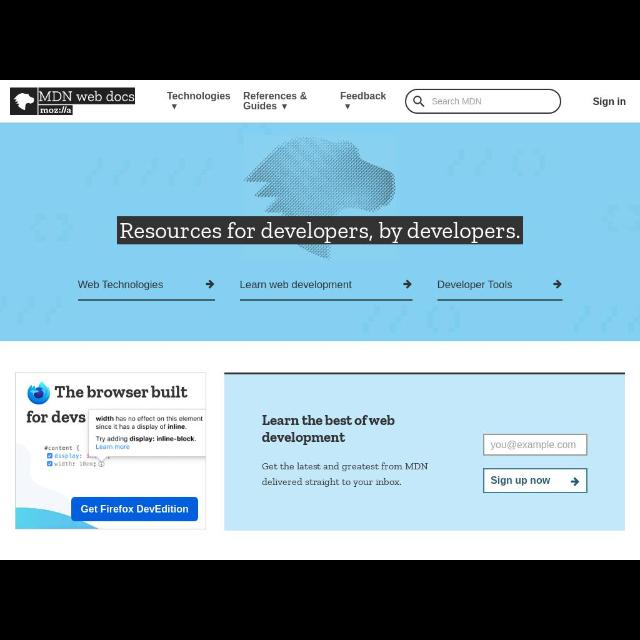icon: (413, 96, 425, 108), (570, 478, 580, 487), (206, 279, 214, 289), (403, 280, 412, 288), (554, 280, 562, 288), (170, 104, 178, 110), (282, 104, 288, 110), (345, 104, 351, 110)
image: (15, 372, 206, 530), (244, 136, 396, 260), (10, 88, 38, 114)
input: (405, 88, 561, 114), (484, 434, 586, 456)
panel: (0, 124, 638, 342), (224, 373, 626, 531)
spinner: (167, 92, 231, 110), (244, 92, 308, 110), (341, 92, 387, 110)
text: (120, 222, 520, 244), (262, 462, 428, 488), (262, 415, 394, 445), (240, 280, 352, 290), (39, 91, 134, 102), (78, 280, 162, 290), (490, 442, 576, 451), (438, 280, 512, 290), (168, 92, 230, 102), (492, 476, 550, 486), (244, 92, 308, 100), (341, 92, 387, 100), (432, 98, 482, 105), (594, 97, 626, 107), (243, 102, 277, 110), (40, 106, 72, 114)
textbutton: (484, 468, 588, 494)
toolbar: (1, 81, 640, 123)
